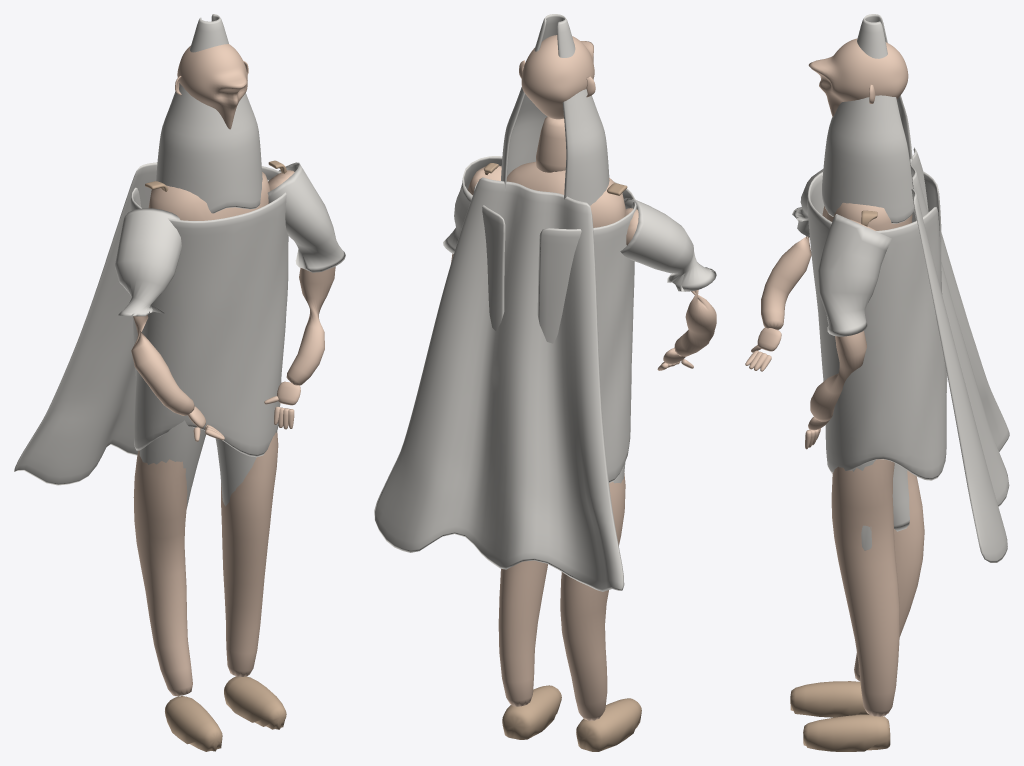
The model's file is monolith_skirmisher.glb.
3 views of the same model, side by side, from view 1: azimuth 30°, elevation 25°; view 2: azimuth 150°, elevation 25°; view 3: azimuth 270°, elevation 25° (orthographic). The views are drawn at different scales.
Parts seen in each view (by area): view 1: Robe, Cape, Hood, LegR, LegL, SleeveR, SleeveL, Head, ArmL, ArmR, BootL, BootR (+3 smaller); view 2: Cape, Robe, Hood, LegR, LegL, SleeveR, Head, BootR, Body, BootL, ArmR, Neck (+1 smaller); view 3: Robe, LegL, Cape, Hood, SleeveL, Head, LegR, BootL, BootR, ArmR, ArmL, Body (+3 smaller).
Part boxes in pixels (x1=…): Robe: x1=130, y1=166, x2=288, y2=457; Cape: x1=14, y1=162, x2=157, y2=485; Hood: x1=156, y1=14, x2=262, y2=213; LegR: x1=133, y1=450, x2=192, y2=696; LegL: x1=221, y1=431, x2=278, y2=676; SleeveR: x1=115, y1=208, x2=181, y2=316; SleeveL: x1=267, y1=162, x2=345, y2=272; Head: x1=177, y1=44, x2=247, y2=129; ArmL: x1=268, y1=170, x2=335, y2=385; ArmR: x1=131, y1=315, x2=194, y2=415; BootL: x1=224, y1=676, x2=286, y2=729; BootR: x1=165, y1=696, x2=222, y2=751; Cape: x1=374, y1=177, x2=624, y2=591; Robe: x1=473, y1=181, x2=636, y2=483; Hood: x1=501, y1=14, x2=609, y2=205; LegR: x1=560, y1=473, x2=625, y2=720; LegL: x1=498, y1=560, x2=547, y2=706; SleeveR: x1=620, y1=198, x2=716, y2=291; Head: x1=521, y1=35, x2=594, y2=119; BootR: x1=576, y1=698, x2=641, y2=751; Body: x1=506, y1=161, x2=625, y2=227; BootL: x1=502, y1=685, x2=561, y2=739; ArmR: x1=624, y1=208, x2=716, y2=356; Neck: x1=536, y1=116, x2=566, y2=172; Robe: x1=807, y1=171, x2=947, y2=480; LegL: x1=831, y1=459, x2=899, y2=716; Cape: x1=910, y1=147, x2=1009, y2=562; Hood: x1=822, y1=14, x2=914, y2=223; SleeveL: x1=818, y1=214, x2=891, y2=336; Head: x1=808, y1=38, x2=908, y2=116; LegR: x1=854, y1=470, x2=924, y2=680; BootL: x1=803, y1=714, x2=890, y2=751; BootR: x1=790, y1=681, x2=868, y2=717; ArmR: x1=761, y1=236, x2=811, y2=330; ArmL: x1=810, y1=219, x2=876, y2=421; Body: x1=822, y1=202, x2=912, y2=230.
Bounding box in the file's own units: 0.7158 × 1.88 × 0.6369.
